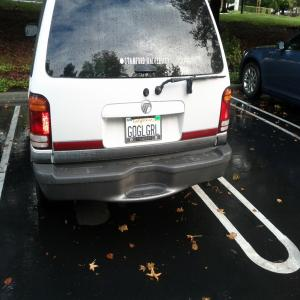Vehicle-registration-plate: (131, 114, 162, 143)
